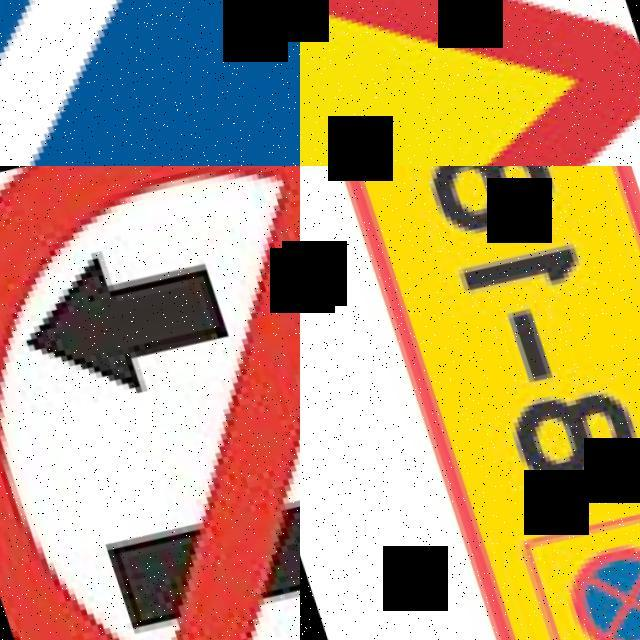138: (300, 0, 640, 166)
181: (328, 166, 640, 640)
Keep left: (0, 0, 300, 166)
One-way traffic: (0, 166, 300, 640)
